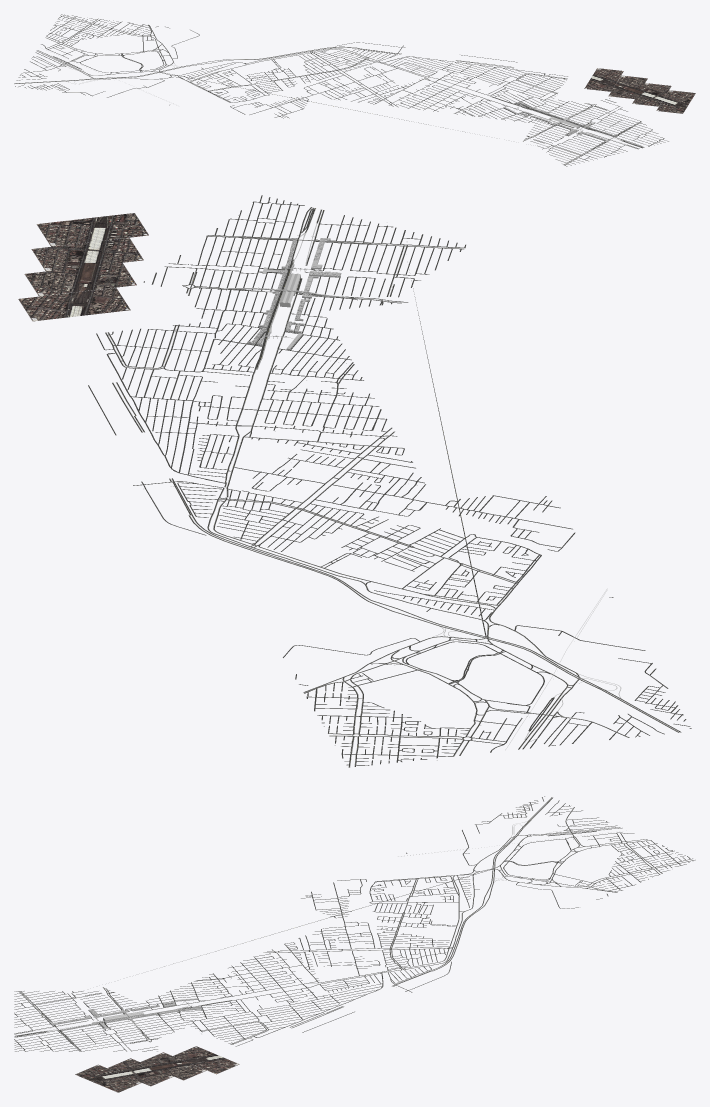
The model's file is world.FBX.
3 views of the same model, one above another, from view 1: azimuth 30°, elevation 25°; view 2: azimuth 150°, elevation 25°; view 3: azimuth 270°, elevation 25° (orthographic). The views are drawn at different scales.
Visible parts, largest first — view 1: model_calles_02, model_calles_01, model_plano_google_04, model_plano_google_02, model_plano_google_01, model_plano_google_03, model_casas_01; view 2: model_calles_02, model_calles_01, model_plano_google_01, model_plano_google_03, model_plano_google_04, model_plano_google_02, model_casas_01; view 3: model_calles_02, model_calles_01, model_plano_google_03, model_plano_google_01, model_plano_google_04, model_plano_google_02, model_casas_01.
Part boxes in pixels (x1=…): model_calles_02: x1=14, y1=14, x2=607, y2=141; model_calles_01: x1=530, y1=98, x2=668, y2=166; model_plano_google_04: x1=656, y1=90, x2=695, y2=113; model_plano_google_02: x1=608, y1=75, x2=647, y2=99; model_plano_google_01: x1=584, y1=68, x2=623, y2=91; model_plano_google_03: x1=632, y1=83, x2=671, y2=106; model_casas_01: x1=503, y1=101, x2=616, y2=142; model_calles_02: x1=88, y1=272, x2=691, y2=767; model_calles_01: x1=143, y1=195, x2=465, y2=315; model_plano_google_01: x1=18, y1=287, x2=130, y2=321; model_plano_google_03: x1=31, y1=238, x2=143, y2=271; model_plano_google_04: x1=36, y1=213, x2=148, y2=246; model_plano_google_02: x1=24, y1=263, x2=136, y2=296; model_casas_01: x1=247, y1=238, x2=341, y2=349; model_calles_02: x1=103, y1=796, x2=695, y2=1046; model_calles_01: x1=14, y1=991, x2=157, y2=1051; model_plano_google_03: x1=107, y1=1058, x2=173, y2=1086; model_plano_google_01: x1=173, y1=1046, x2=239, y2=1074; model_plano_google_04: x1=75, y1=1064, x2=141, y2=1092; model_plano_google_02: x1=140, y1=1052, x2=206, y2=1080; model_casas_01: x1=49, y1=998, x2=202, y2=1031.
Size of the model in its own units: 2546 by 23.16 by 2473.
